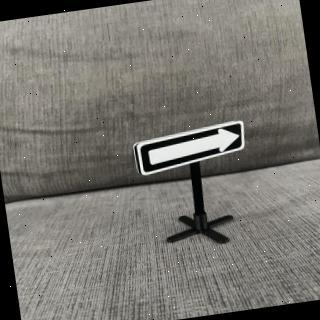sign_oneway_right: (134, 119, 251, 178)
